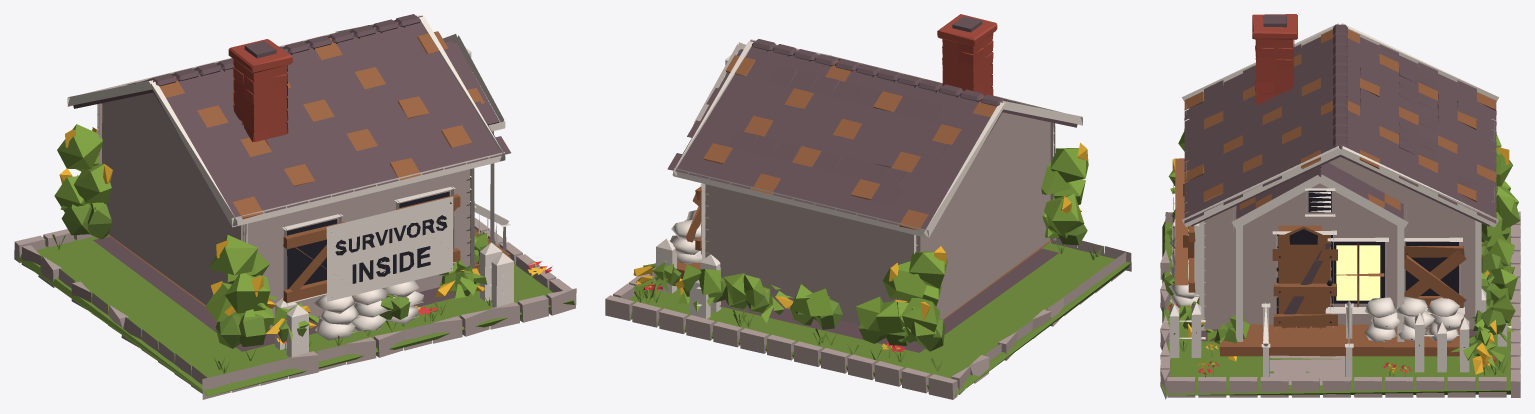
File: bld.safe-house.lod1.glb
The picture shows the model from 3 angles, left to right: view 1: azimuth 30°, elevation 25°; view 2: azimuth 150°, elevation 25°; view 3: azimuth 270°, elevation 25°; orthographic projection. The views are drawn at different scales.
Parts seen in each view (by area): view 1: body, roof; view 2: body, roof; view 3: body, roof, door_front.
Boxes of the visible parts, <box> form: body: <box>14,41,576,399</box>; roof: <box>67,14,510,227</box>; body: <box>605,49,1131,399</box>; roof: <box>667,14,1082,238</box>; body: <box>1160,129,1520,399</box>; roof: <box>1182,14,1498,231</box>; door_front: <box>1272,234,1337,328</box>.
Size of the model in its own units: 7.93 by 5.69 by 7.05.
